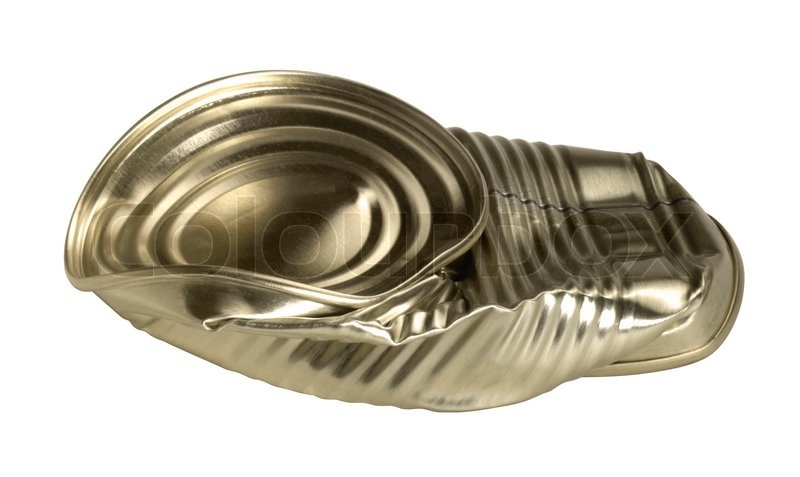Rec_Metal: (45, 52, 759, 424)
